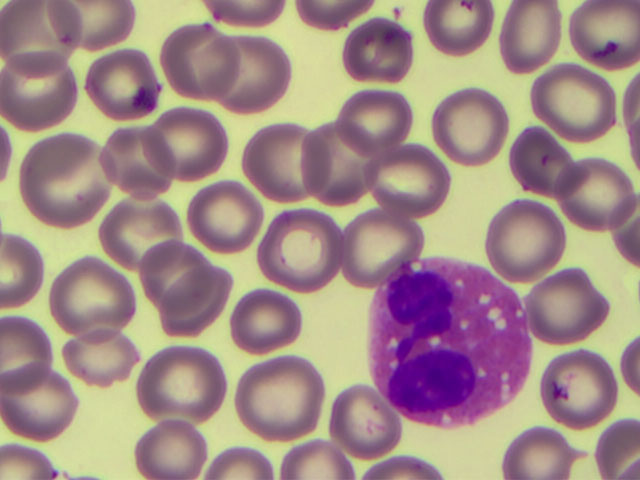RBC: (129, 406, 207, 480), (561, 161, 640, 234), (82, 50, 160, 123), (26, 140, 104, 213), (99, 128, 177, 201), (141, 107, 219, 180), (103, 195, 181, 268), (131, 225, 209, 298), (180, 182, 258, 255), (242, 128, 320, 201), (294, 134, 372, 207), (349, 85, 427, 158), (217, 43, 295, 116), (169, 21, 247, 94), (338, 18, 416, 91), (438, 88, 516, 161), (375, 142, 453, 215), (344, 209, 422, 282), (267, 212, 345, 285), (227, 280, 305, 353), (158, 268, 236, 341), (54, 260, 132, 333), (63, 318, 141, 391), (1, 367, 79, 440), (142, 346, 220, 419), (239, 365, 317, 438), (316, 386, 394, 459), (541, 355, 619, 428), (531, 268, 609, 341), (489, 197, 567, 270), (498, 126, 576, 199), (536, 63, 614, 136), (1, 57, 78, 130), (2, 1, 80, 73), (492, 1, 570, 73), (421, 1, 499, 73), (562, 1, 640, 73)
WBC: (368, 252, 535, 423)
